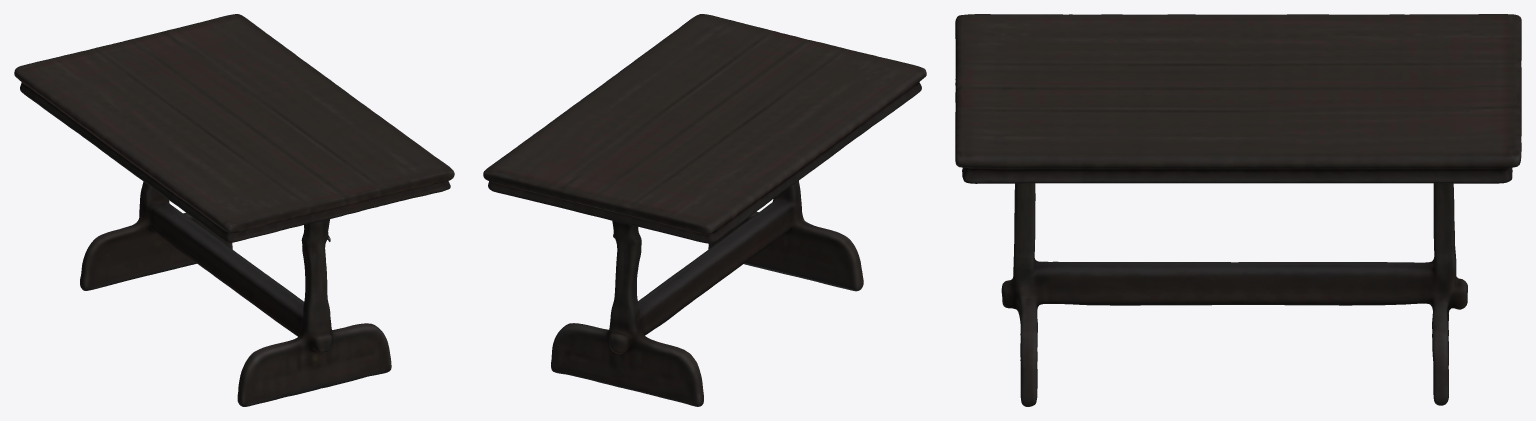
File: 8a9d330777c0_table__3d_asset_0_g.fbx
3 renders of one model, left to right at view 1: azimuth 30°, elevation 25°; view 2: azimuth 150°, elevation 25°; view 3: azimuth 270°, elevation 25°, orthographic. The views are drawn at different scales.
Visible parts, largest first — view 1: high_poly; view 2: high_poly; view 3: high_poly.
Boxes of the visible parts, x1,y1,x2,y2 form: high_poly: (14,14,454,406); high_poly: (483,14,926,406); high_poly: (955,14,1521,406).
Bounding box in the file's own units: 61.07 × 54.12 × 100.
